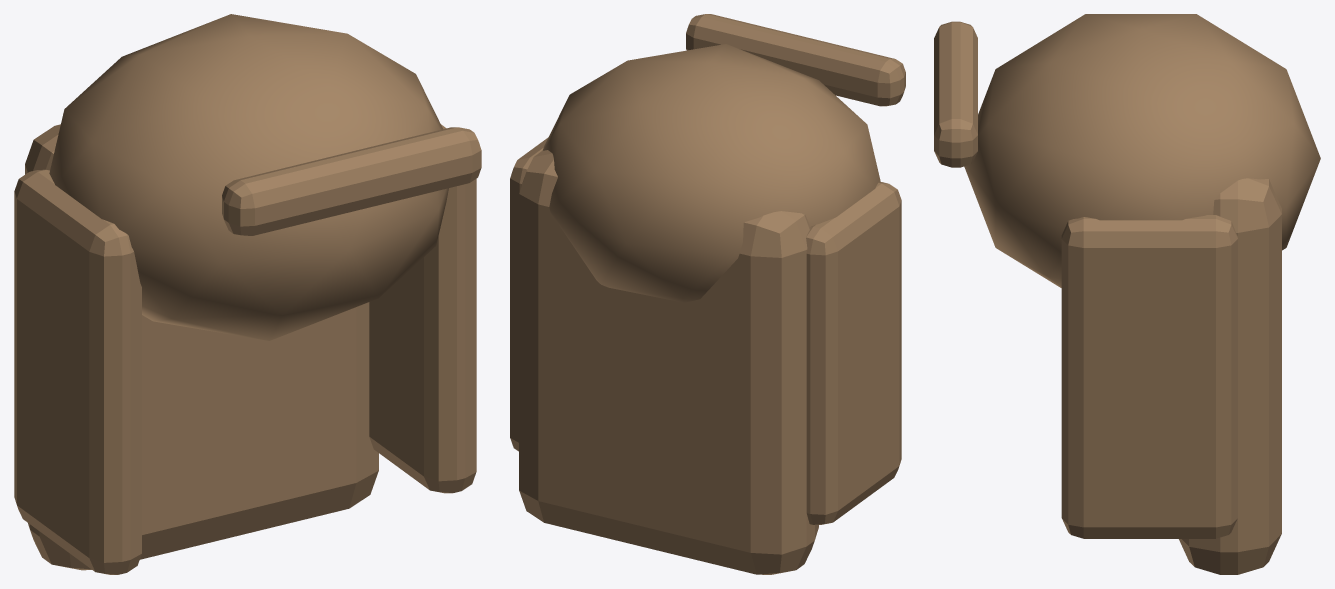
Rendered from cabelo_longo.glb.
The picture shows the model from 3 angles, left to right: view 1: azimuth 30°, elevation 25°; view 2: azimuth 150°, elevation 25°; view 3: azimuth 270°, elevation 25°; orthographic projection. The views are drawn at different scales.
Parts seen in each view (by area): view 1: Cabelo, Costas, Mecha, Mecha.001, Franja; view 2: Costas, Cabelo, Mecha, Franja, Mecha.001; view 3: Cabelo, Mecha.001, Costas, Franja.
Boxes of the visible parts, x1,y1,x2,y2 form: Cabelo: (49,14,448,340); Costas: (25,124,378,570); Mecha: (14,169,141,574); Mecha.001: (369,124,476,493); Franja: (222,127,481,236); Costas: (519,150,818,574); Cabelo: (542,44,880,302); Mecha: (806,182,901,524); Franja: (686,14,905,106); Mecha.001: (510,137,548,451); Cabelo: (964,14,1320,287); Mecha.001: (1061,215,1237,538); Costas: (1179,178,1281,574); Franja: (934,21,977,167).
Bounding box in the file's own units: 0.46 × 0.6112 × 0.4393.
